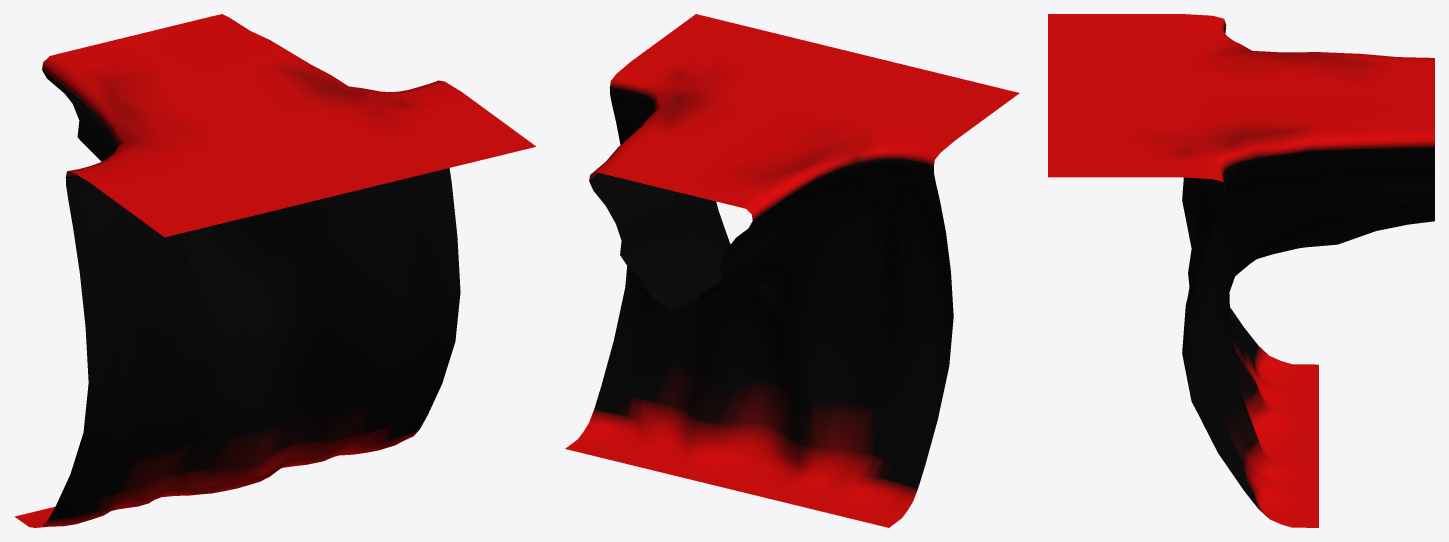
Rendered from CrossingCliff02C 2M Foreground.fbx.
3 views of the same model, side by side, from view 1: azimuth 30°, elevation 25°; view 2: azimuth 150°, elevation 25°; view 3: azimuth 270°, elevation 25° (orthographic). The views are drawn at different scales.
Visible parts, largest first — view 1: CrossingCliff02C 2M Foreground; view 2: CrossingCliff02C 2M Foreground; view 3: CrossingCliff02C 2M Foreground.
Part boxes in pixels (bbox=[...]): CrossingCliff02C 2M Foreground: bbox=[15, 14, 535, 527]; CrossingCliff02C 2M Foreground: bbox=[565, 14, 1019, 527]; CrossingCliff02C 2M Foreground: bbox=[1048, 14, 1434, 527].
Bounding box in the file's own units: 2 × 2.01 × 2.
